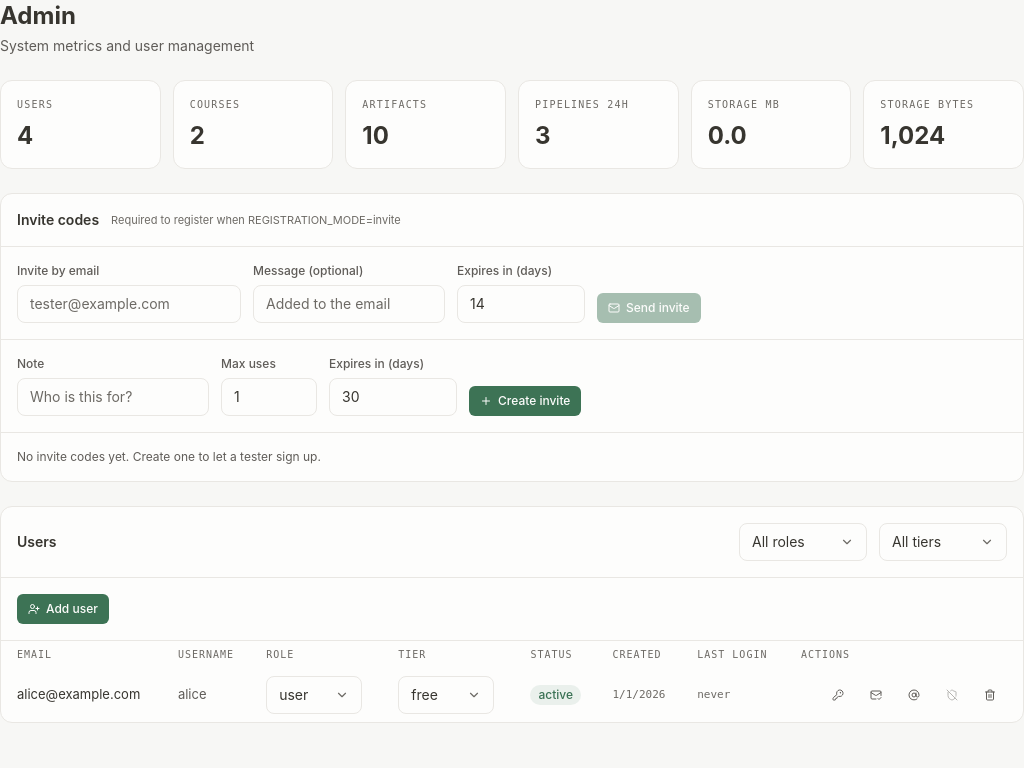
it: AdminPage destructive confirmations › deactivating asks first and sends nothing on the click itself
Step 1. Click the button with aria-label "deactivate user" → click(556, 695), box 530,685 -> 581,705
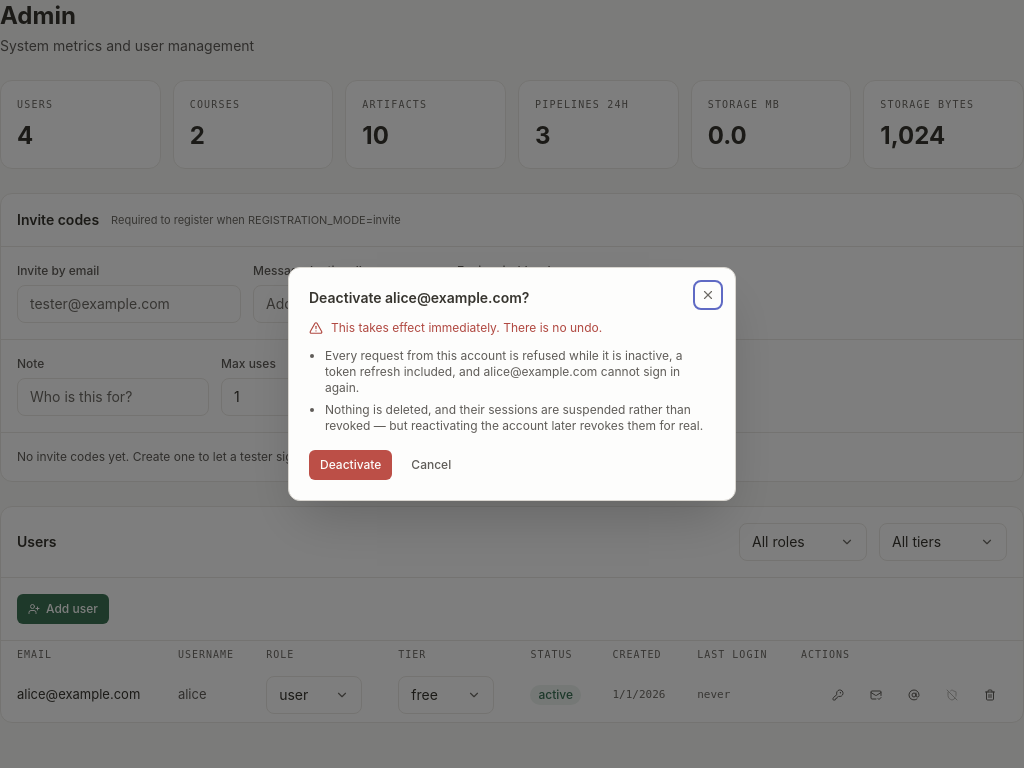
Now the dialog shows "Deactivate alice@example.com?", box 309,289 -> 530,306
